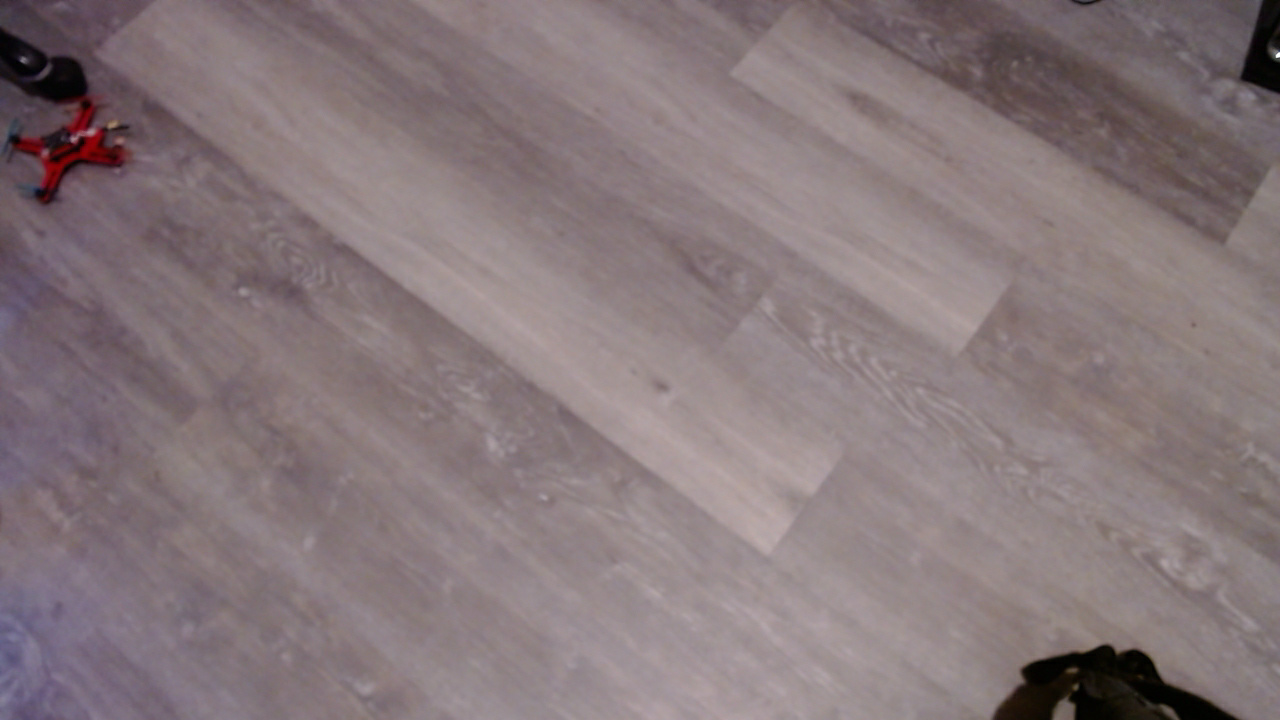crazyflie: (15, 96, 145, 214)
